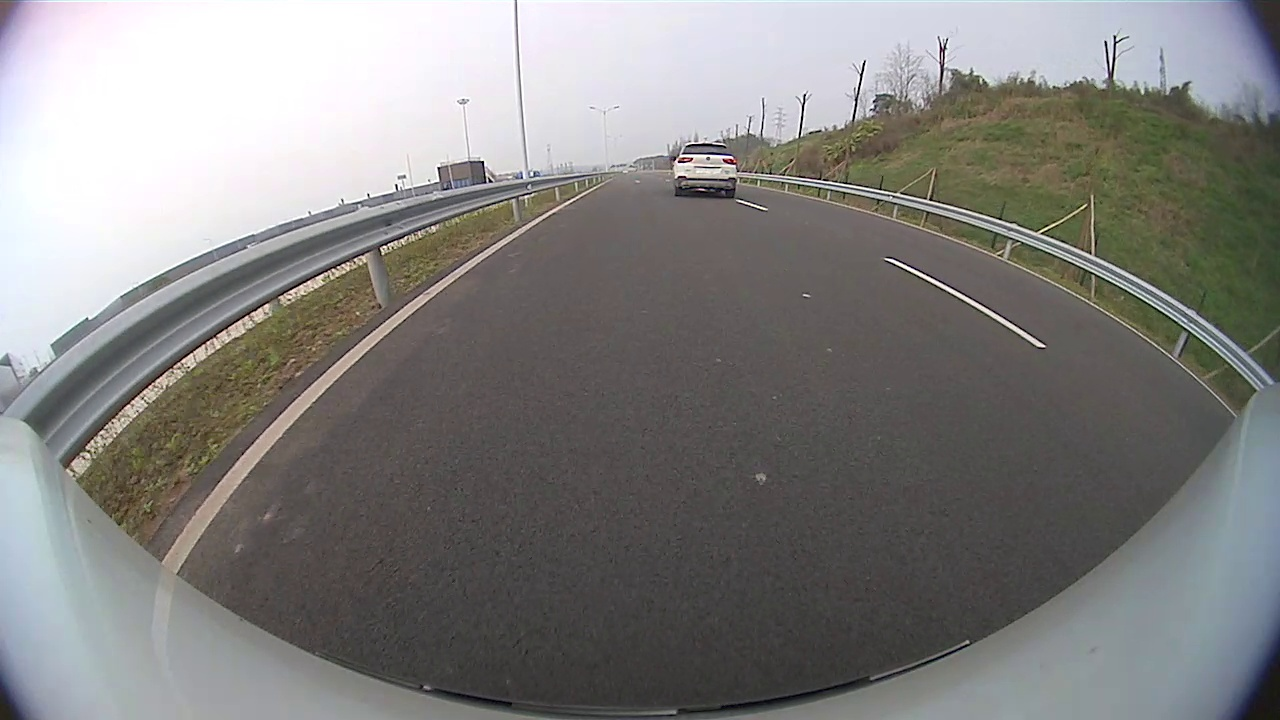car: (671, 141, 738, 198)
